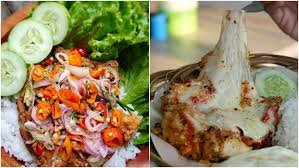ayam_geprek: (161, 27, 284, 154), (29, 54, 139, 163)
